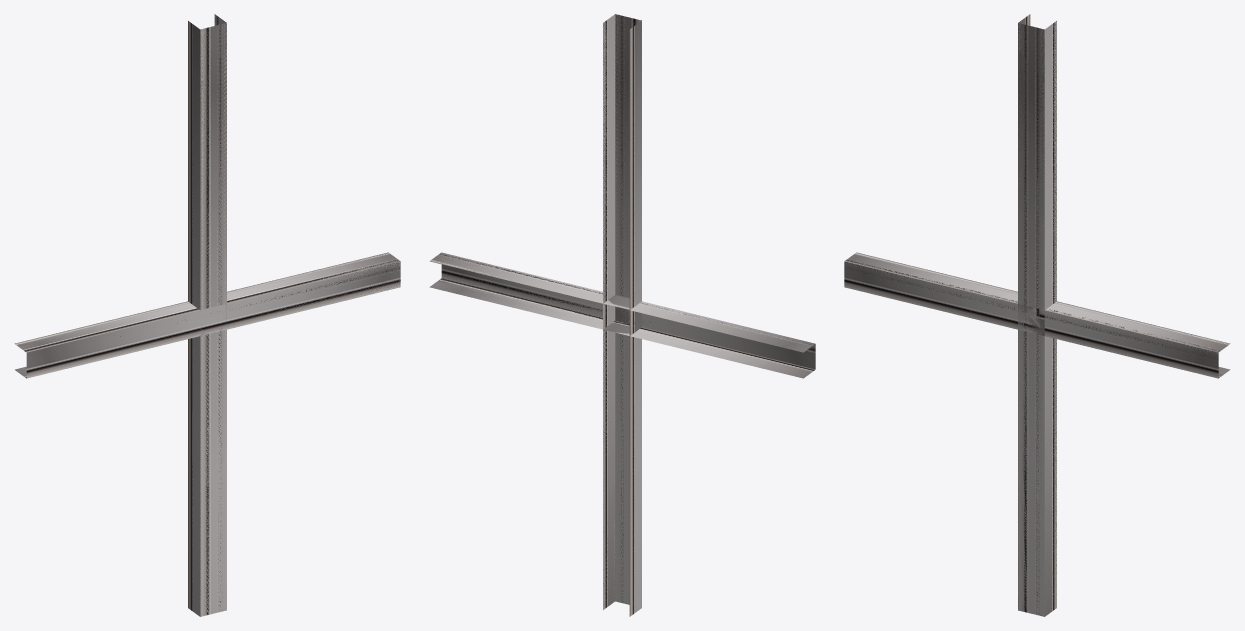
Rendered from huakuang004.obj.
3 renders of one model, left to right at view 1: azimuth 30°, elevation 25°; view 2: azimuth 150°, elevation 25°; view 3: azimuth 330°, elevation 25°, orthographic.
Parts seen in each view (by area): view 1: Right, Left, Top, Bottom; view 2: Right, Left, Bottom, Top; view 3: Right, Top, Left, Bottom.
Part boxes in pixels (x1,y1,x2,y2): Right: (188,14,226,616); Left: (188,16,226,616); Top: (15,252,400,378); Bottom: (15,253,400,378); Right: (603,14,641,615); Left: (603,14,641,616); Bottom: (430,252,815,378); Top: (429,252,815,376); Right: (1018,14,1056,616); Top: (844,252,1230,378); Left: (1018,15,1056,615); Bottom: (844,253,1228,377).
Bounding box in the file's own units: 1 × 1.5 × 0.0566.
1 material, 1 textured.
